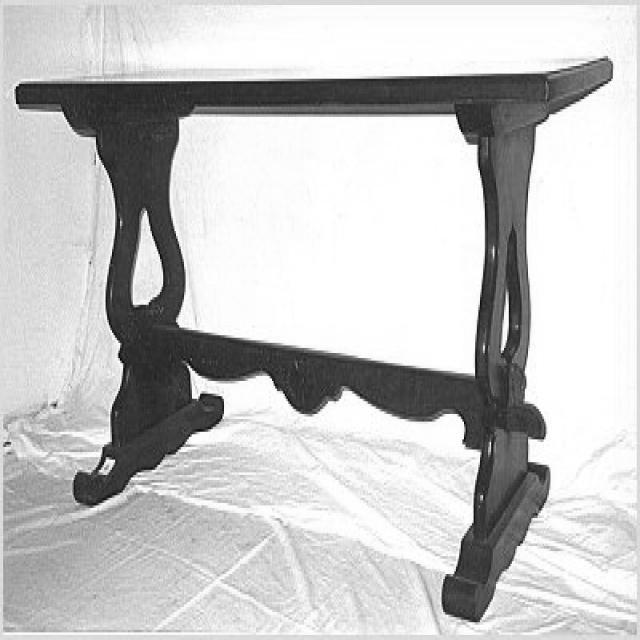table: (14, 54, 613, 622)
